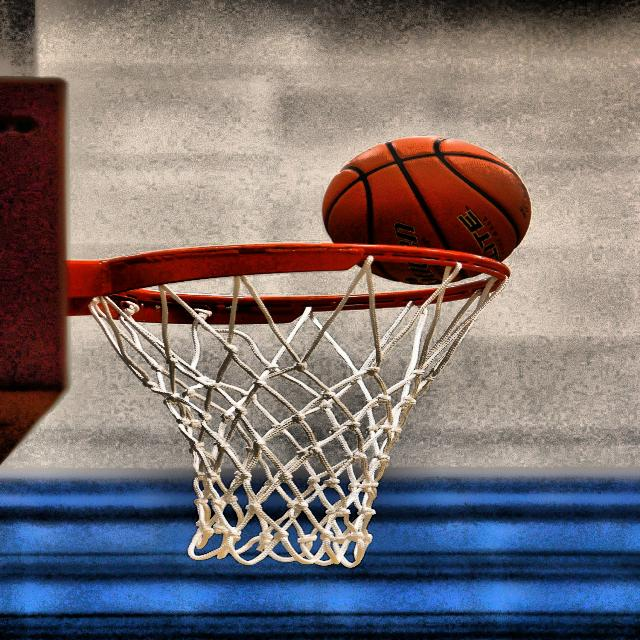board: (320, 135, 532, 285)
rim: (82, 239, 512, 581)
